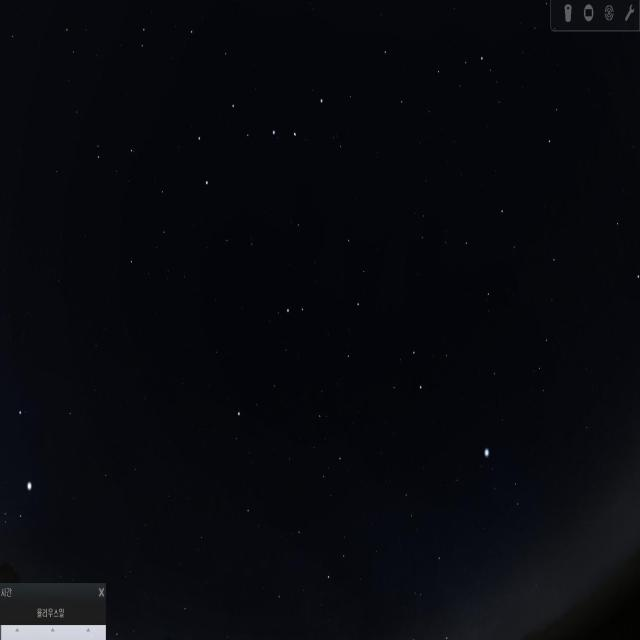lyra: (473, 438, 522, 524)
ursa_major: (185, 75, 326, 210)
